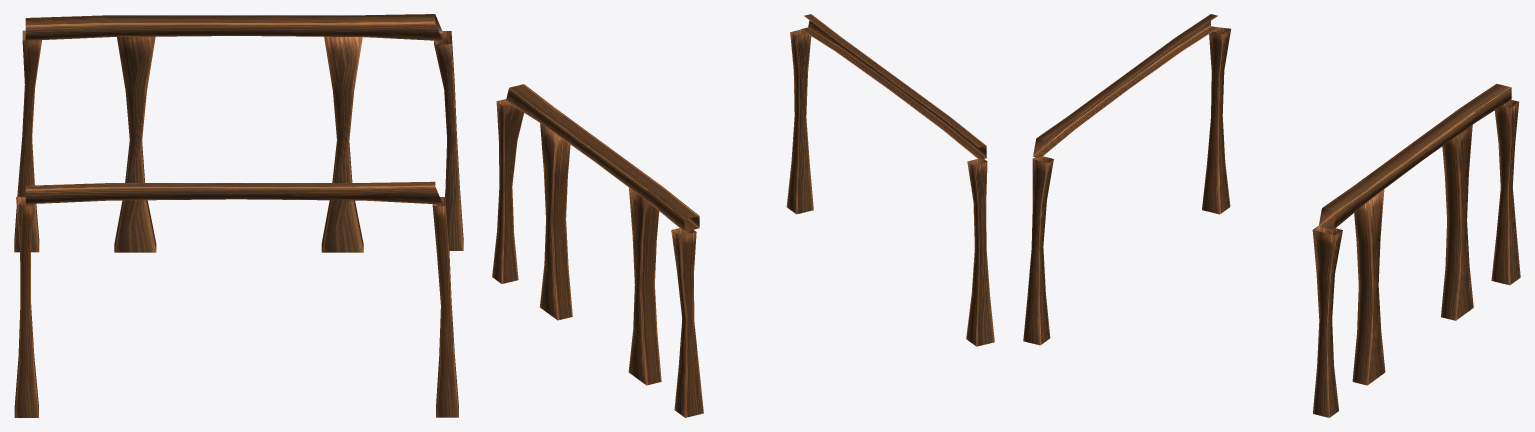
Rendered from HTOWN01_HANNASHEDEXTCOLUMS.fbx.
The picture shows the model from 3 angles, left to right: view 1: azimuth 30°, elevation 25°; view 2: azimuth 150°, elevation 25°; view 3: azimuth 270°, elevation 25°; orthographic projection. The views are drawn at different scales.
Visible parts, largest first — view 1: HTOWN01_HANNASHEDEXTCOLUMS; view 2: HTOWN01_HANNASHEDEXTCOLUMS; view 3: HTOWN01_HANNASHEDEXTCOLUMS.
Part boxes in pixels (<box>): HTOWN01_HANNASHEDEXTCOLUMS: <box>14,14,463,417</box>; HTOWN01_HANNASHEDEXTCOLUMS: <box>492,14,994,417</box>; HTOWN01_HANNASHEDEXTCOLUMS: <box>1023,14,1520,417</box>.
Bounding box in the file's own units: 48110 × 20421 × 46930.
Materials: 1 (1 with a texture image).
